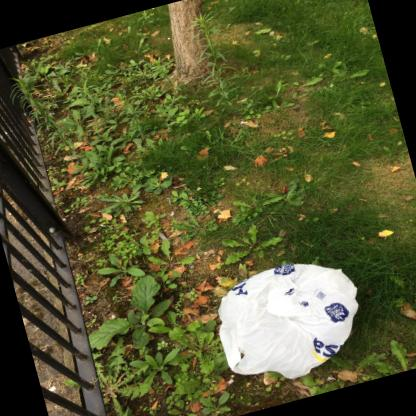Plastic: (217, 263, 358, 378)
